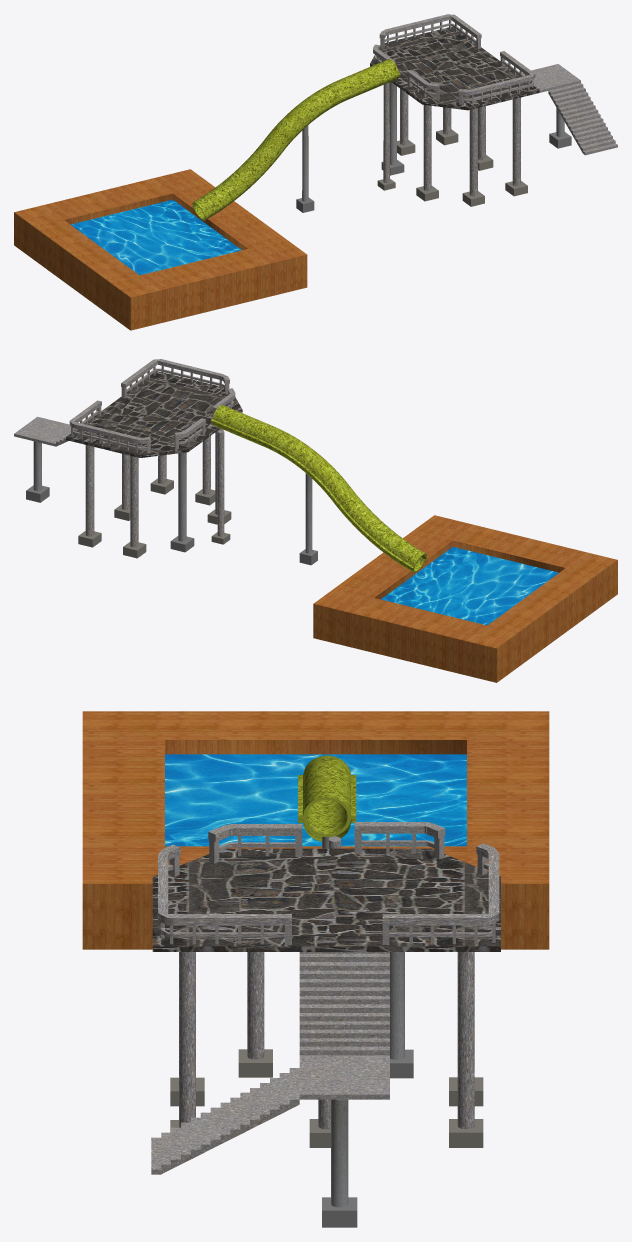
Rendered from pool.obj.
The picture shows the model from 3 angles, top to bottom: view 1: azimuth 30°, elevation 25°; view 2: azimuth 150°, elevation 25°; view 3: azimuth 270°, elevation 25°; orthographic projection. The views are drawn at different scales.
Parts seen in each view (by area): view 1: Line006, Plane002, Line002, Loft002, LTypeStair001, Railing001, Railing004, Cylinder002, Cylinder001, Cylinder003, Cylinder013, Cylinder004 (+6 smaller); view 2: Line006, Plane002, Line002, Loft002, Railing004, Railing001, Cylinder007, LTypeStair001, Cylinder005, Cylinder004, Cylinder013, Cylinder012 (+6 smaller); view 3: Line006, Line002, Plane002, LTypeStair001, Loft002, Cylinder007, Railing004, Railing001, Cylinder001, Cylinder008, Cylinder003, Cylinder004 (+3 smaller).
Part boxes in pixels (x1,y1,x2,y2): Line006: (14,169,307,330); Plane002: (70,199,241,275); Line002: (370,26,539,110); Loft002: (191,59,400,220); LTypeStair001: (522,64,617,155); Railing001: (379,14,481,48); Railing004: (458,51,535,104); Cylinder002: (462,108,484,206); Cylinder001: (505,97,527,196); Cylinder003: (416,105,438,201); Cylinder013: (377,82,395,190); Cylinder004: (381,82,404,175); Line006: (313,515,617,682); Plane002: (381,547,558,625); Line002: (66,371,242,457); Loft002: (210,405,427,572); Railing004: (121,359,229,398); Railing001: (69,400,150,453); Cylinder007: (78,445,101,547); LTypeStair001: (14,416,70,446); Cylinder005: (123,456,146,558); Cylinder004: (170,452,194,552); Cylinder013: (211,430,230,544); Cylinder012: (299,473,317,565); Line006: (82,711,549,949); Line002: (152,848,500,951); Plane002: (165,754,466,846); LTypeStair001: (151,952,389,1174); Loft002: (298,755,356,841); Cylinder007: (449,952,483,1147); Railing004: (158,844,291,944); Railing001: (382,843,499,944); Cylinder001: (170,952,195,1132); Cylinder008: (322,1099,357,1227); Cylinder003: (238,952,272,1077); Cylinder004: (390,952,413,1078).
Bounding box in the file's own units: 290 × 81.03 × 116.
7 materials, 7 textured.
